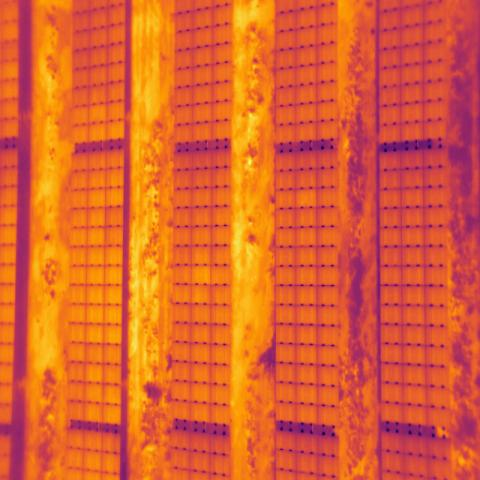fault: (295, 188, 316, 208)
